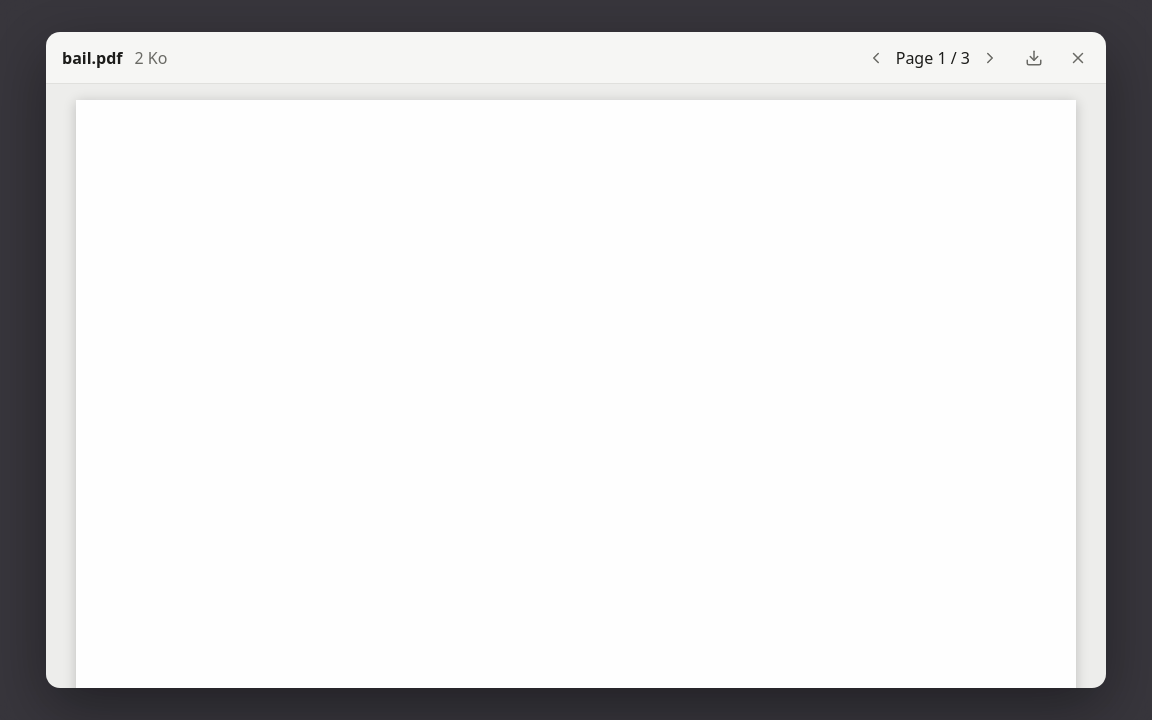
Test case: DocViewer › turns the pages of a PDF and closes with Escape
The image size is (1152, 720).
Later steps or results of the test are not shown.
Expected: the text "Page 1 / 3" is shown, [896,46,970,70]
Click the button named "Page suivante" at (990,58), box [974,42,1006,74]
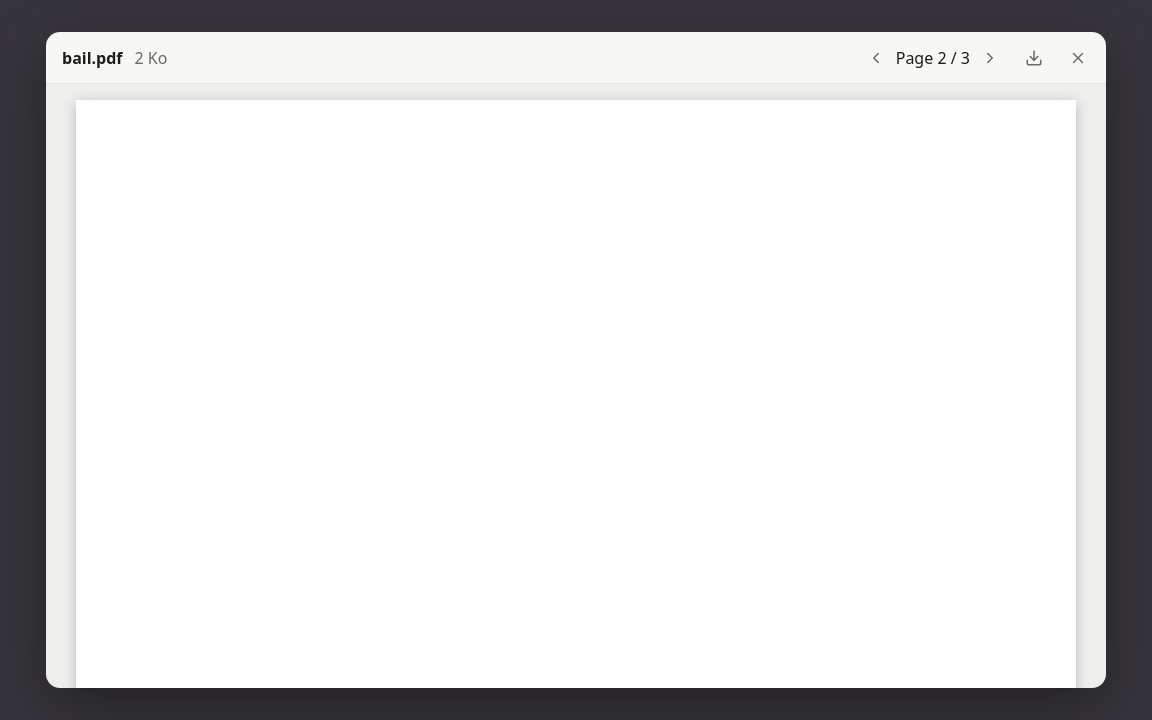
Press ArrowRight
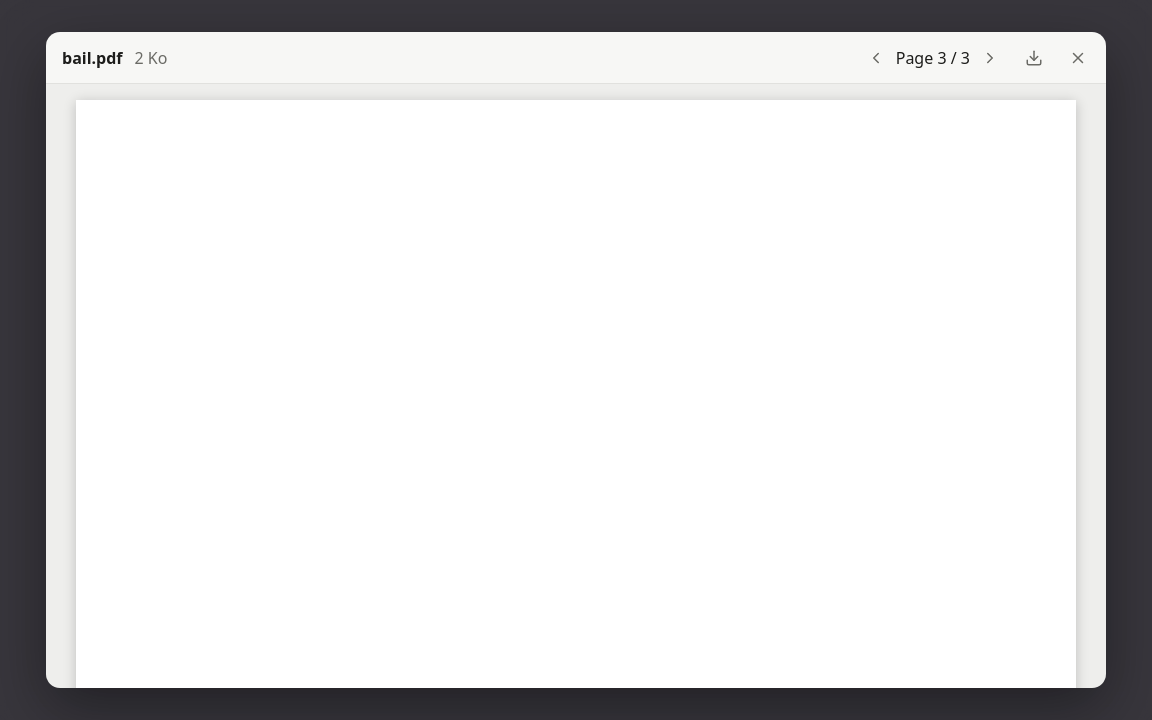
Expected: the button named "Page suivante" is disabled, [974,42,1006,74]
Now the text "Page 3 / 3" is shown, box [896,46,970,70]
